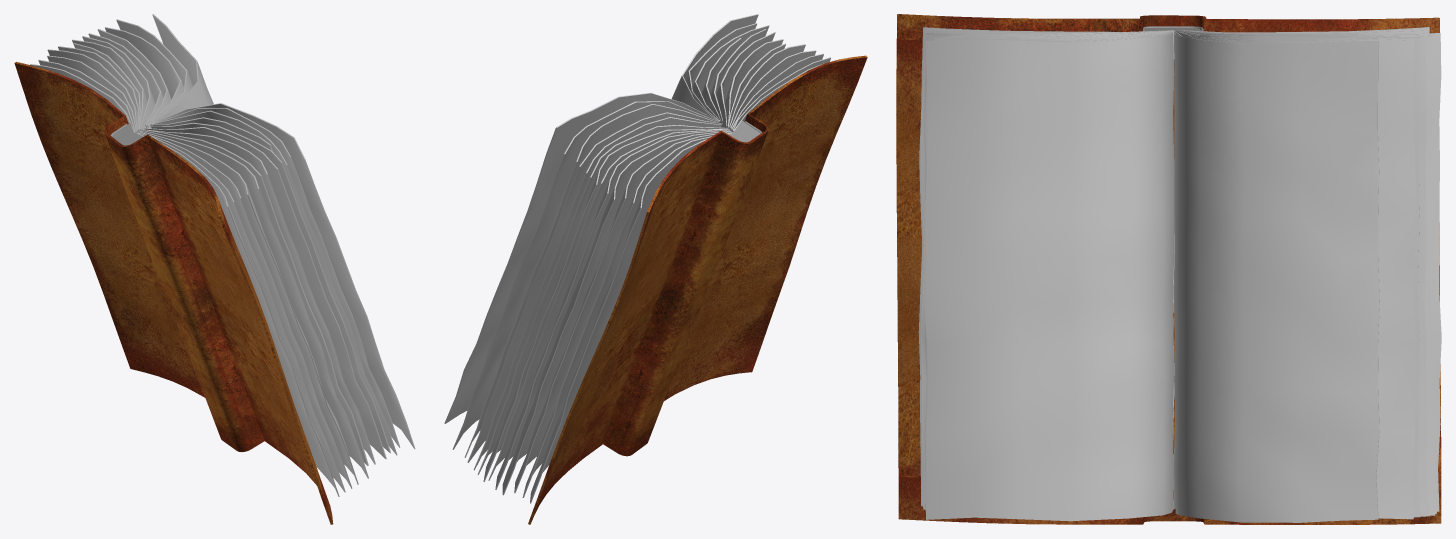
Rendered from book.FBX.
3 renders of one model, left to right at view 1: azimuth 30°, elevation 25°; view 2: azimuth 150°, elevation 25°; view 3: azimuth 270°, elevation 25°, orthographic. The views are drawn at different scales.
Parts seen in each view (by area): view 1: Line02; view 2: Line02; view 3: Line02.
Part boxes in pixels (left/top/right/bottom): Line02: left=14, top=14, right=415, bottom=524; Line02: left=444, top=14, right=867, bottom=524; Line02: left=896, top=14, right=1441, bottom=524.
Size of the model in its own units: 5.53 by 8.59 by 8.79.
